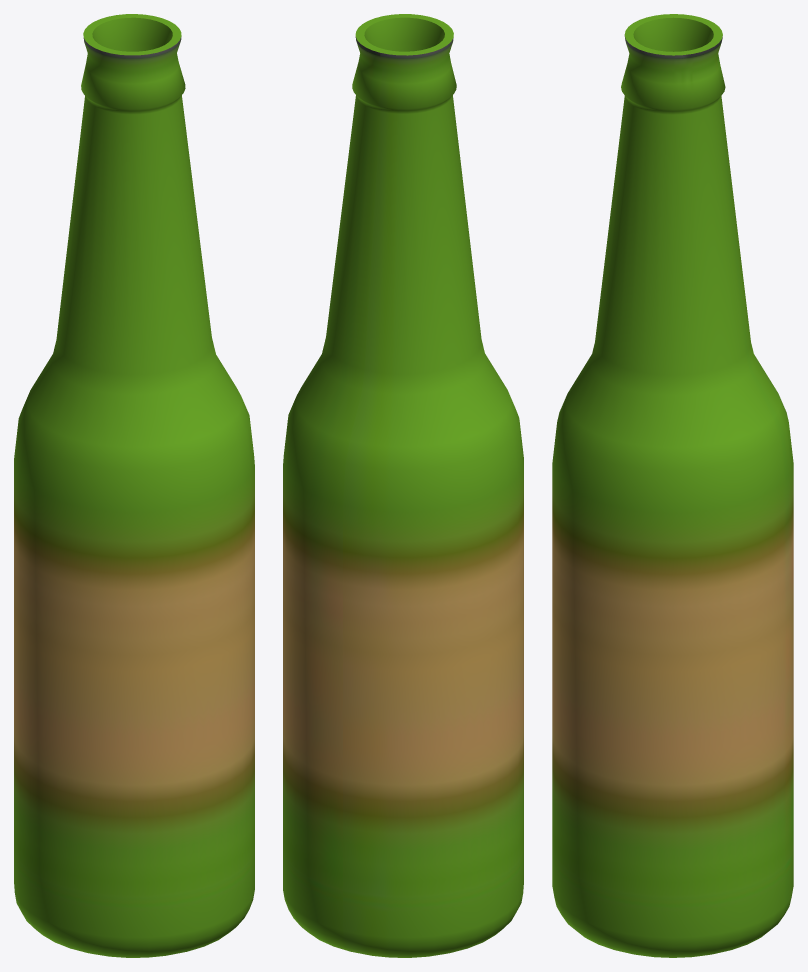
File: Beer Bottle.fbx
The picture shows the model from 3 angles, left to right: view 1: azimuth 30°, elevation 25°; view 2: azimuth 150°, elevation 25°; view 3: azimuth 270°, elevation 25°; orthographic projection.
Visible parts, largest first — view 1: Cylinder.001; view 2: Cylinder.001; view 3: Cylinder.001.
Boxes of the visible parts, x1,y1,x2,y2 form: Cylinder.001: (14, 14, 254, 957); Cylinder.001: (283, 14, 523, 957); Cylinder.001: (552, 14, 793, 957).
Bounding box in the file's own units: 241 × 975 × 241.
Materials: 1 (1 with a texture image).
